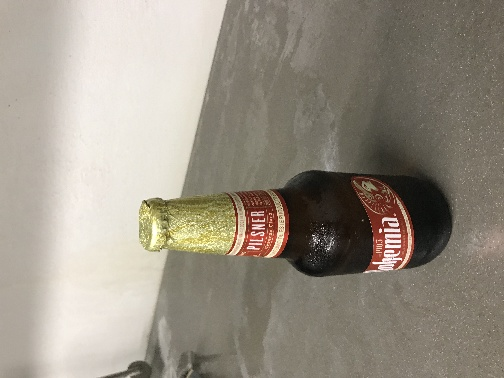BPB: (245, 128, 302, 195), (167, 140, 214, 185)
